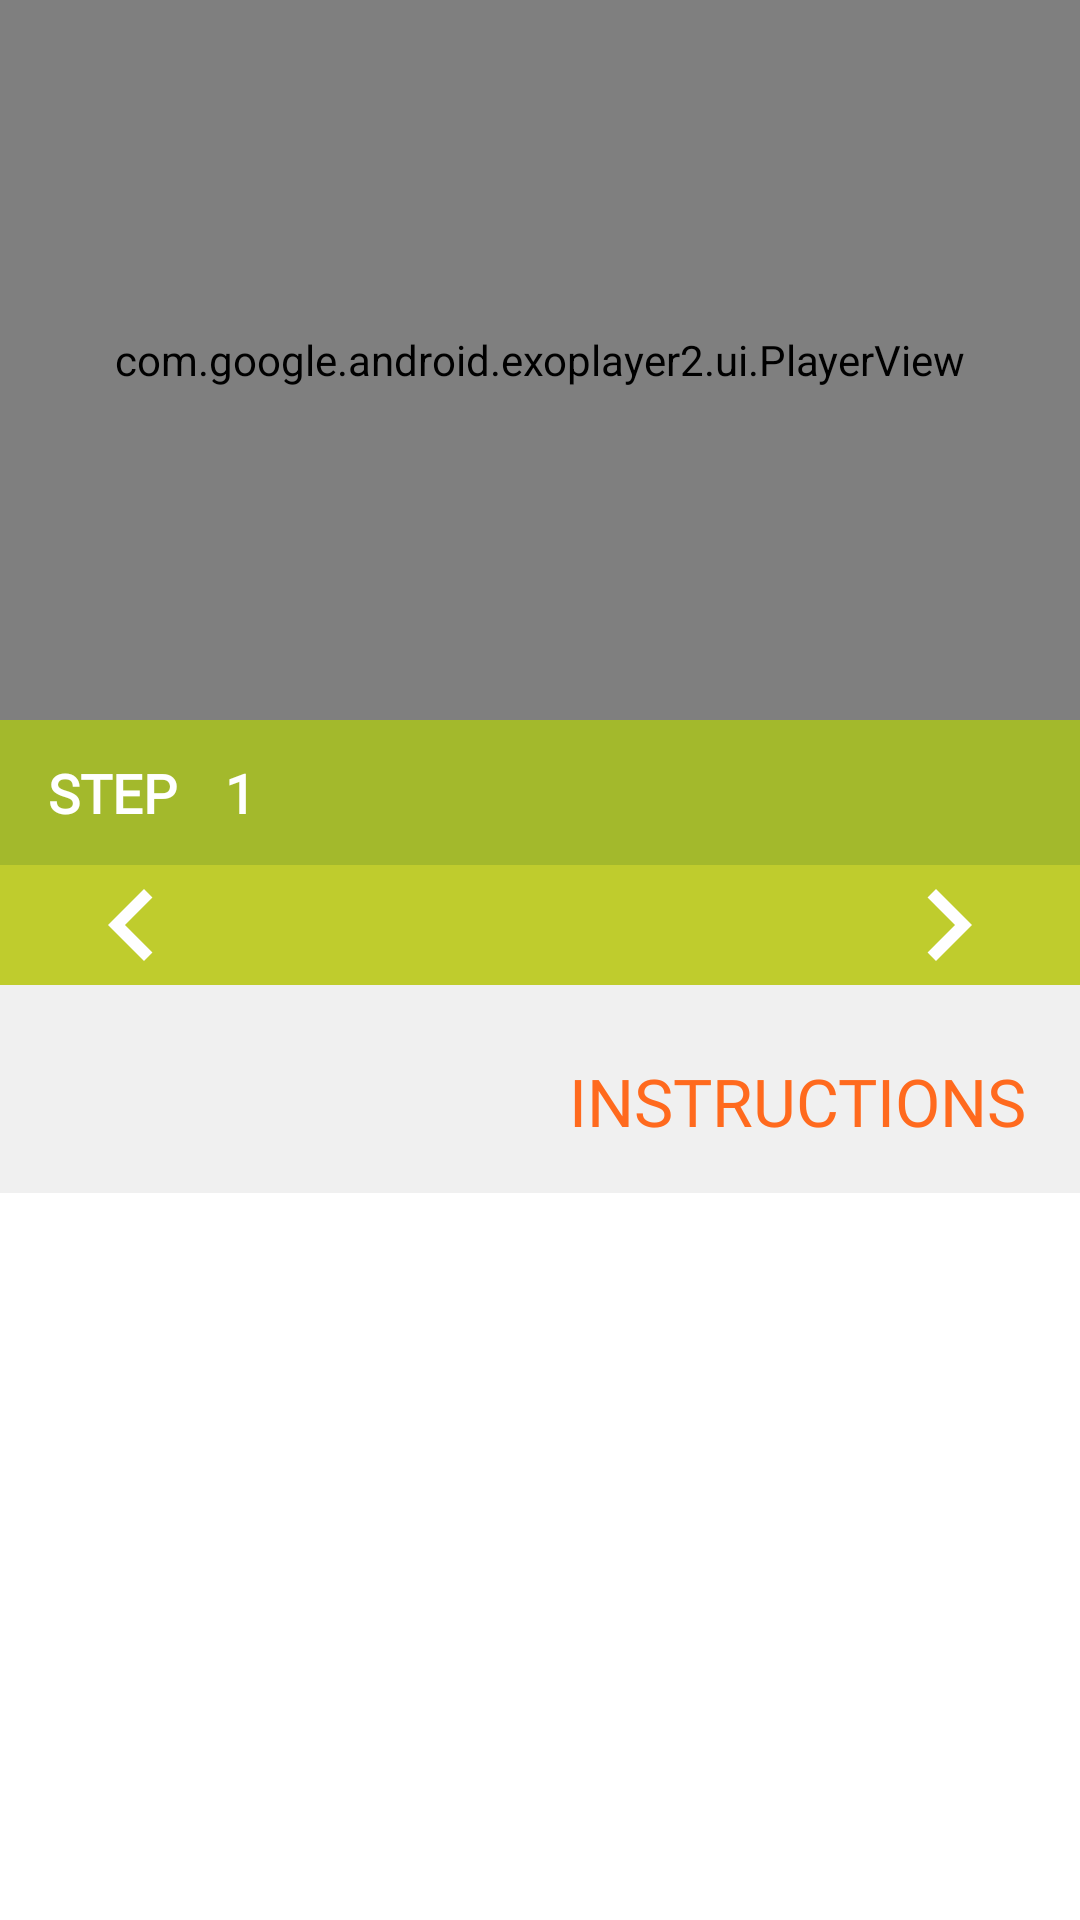

Icons on this 1080px×1920px Android screen, each with the point to tap as point (x, y):
next button: point (948, 925)
previous button: point (132, 925)
